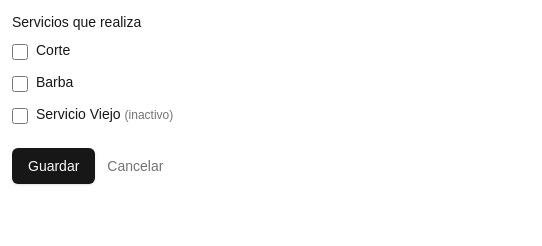
Test case: BarberServicesForm - rejection › should_show_the_error_in_an_alert
Click the button "Guardar": {"x": 54, "y": 166} [12,148,95,184]
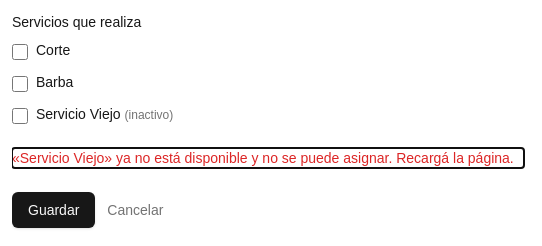
expect the message shows "Servicio Viejo": met, box [12,150,514,166]
